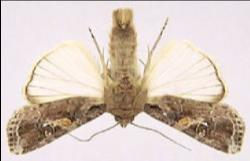army worm adult: (7, 9, 246, 157)
